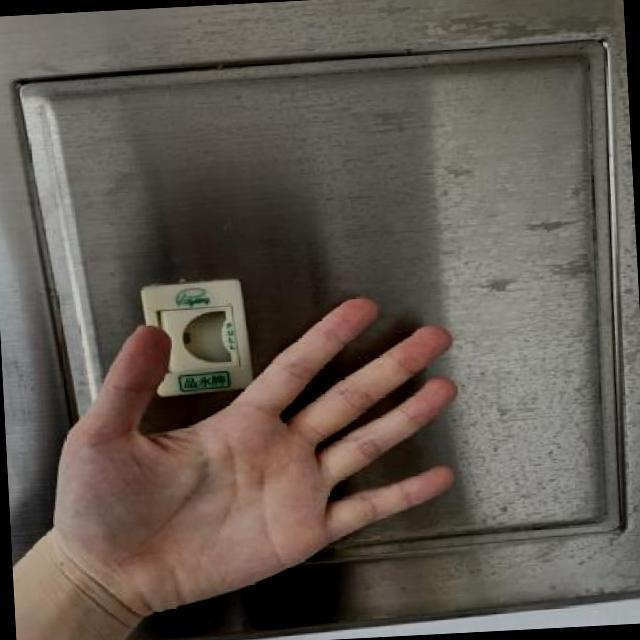hand: (22, 261, 480, 638)
